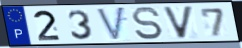2: (33, 9, 62, 42)
3: (67, 9, 94, 41)
7: (199, 7, 227, 38)
S: (130, 6, 165, 41)
V: (161, 5, 196, 40), (95, 5, 127, 43)
